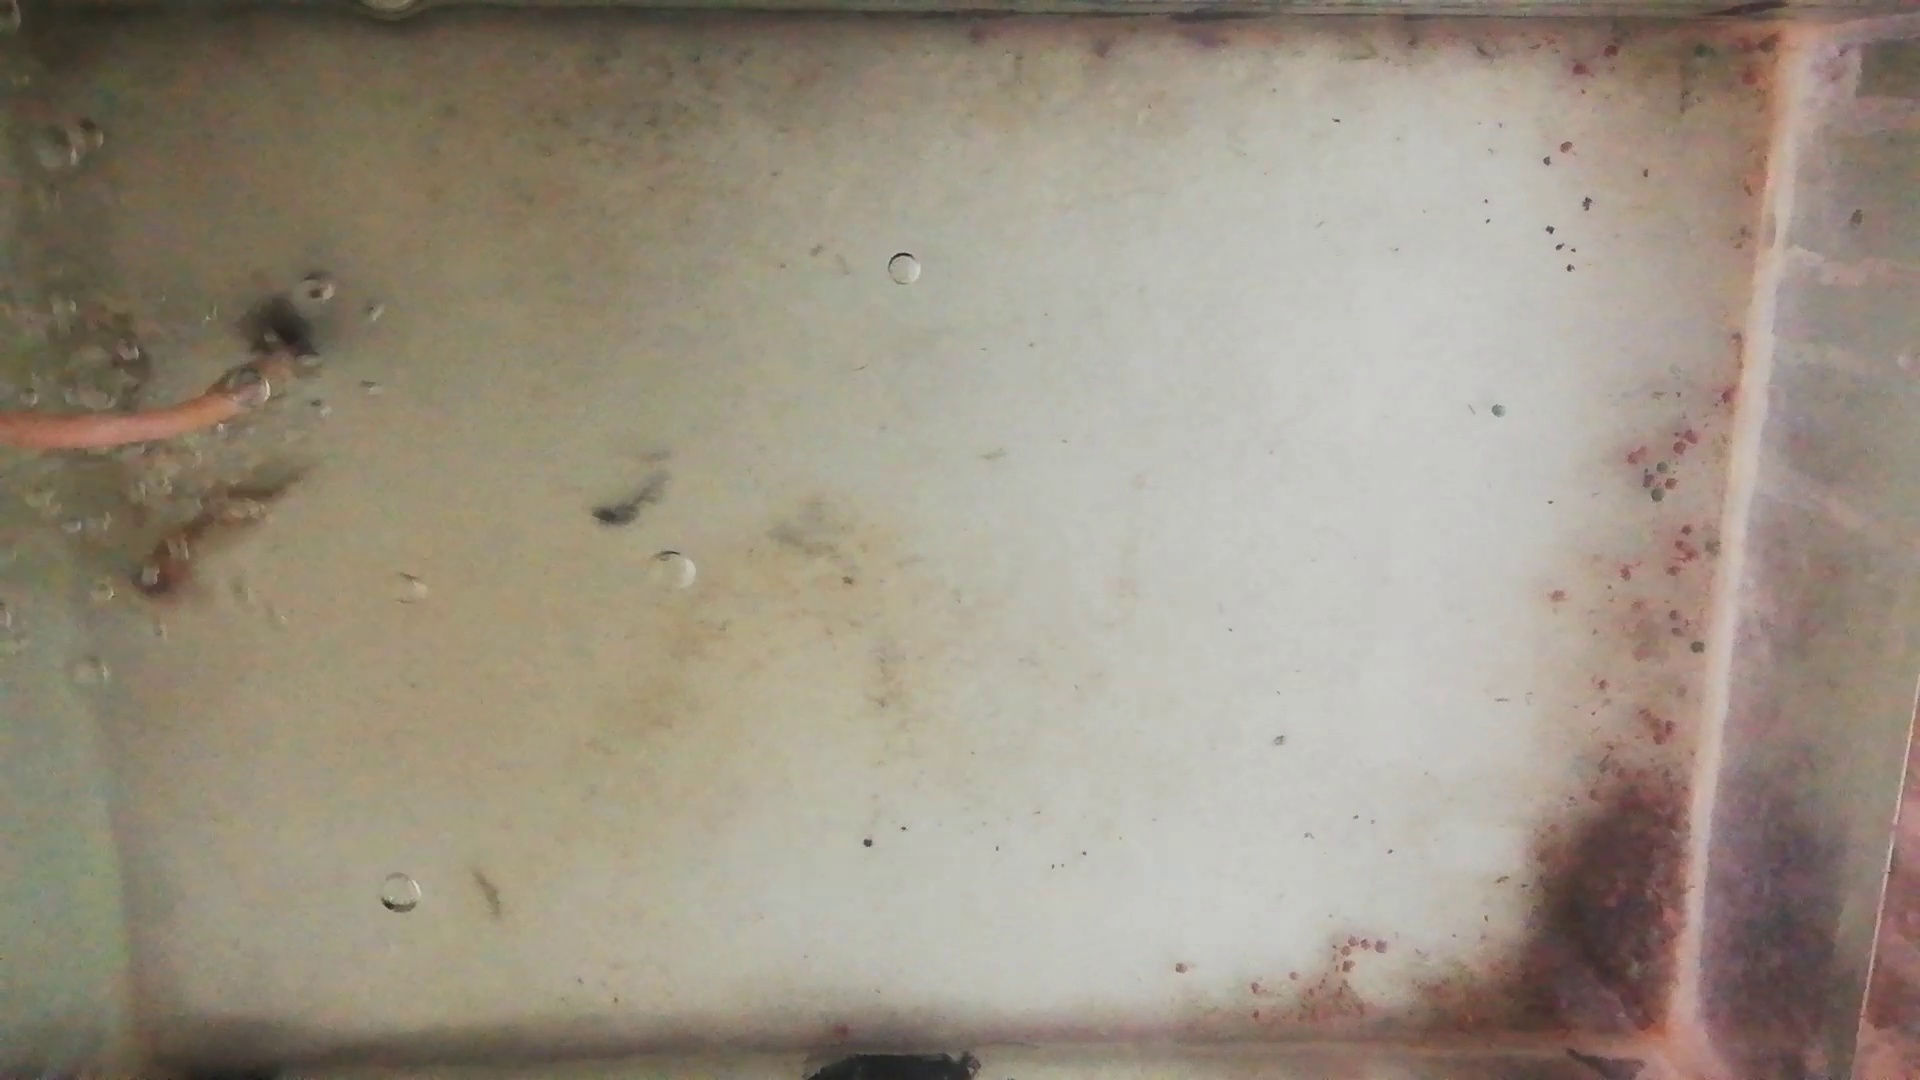fish: (131, 458, 316, 603)
